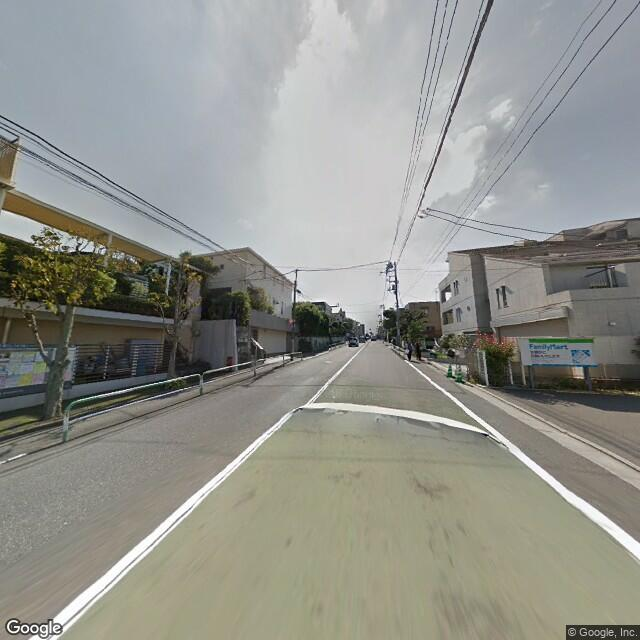family_mart: (527, 334, 575, 355)
